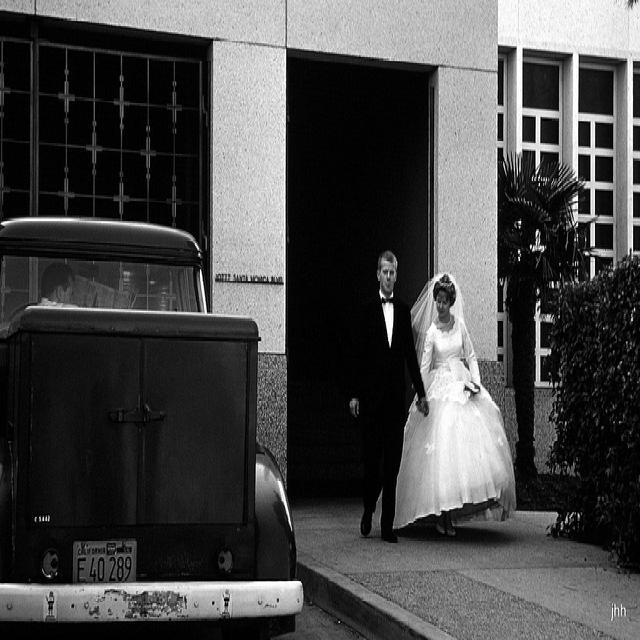Vehicle: (0, 214, 305, 627)
